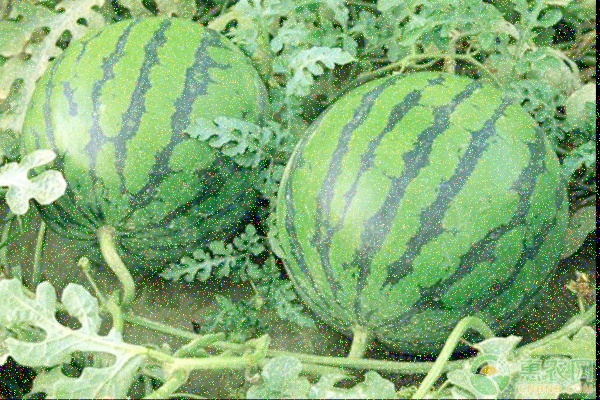watermelon: (284, 69, 570, 338), (19, 15, 267, 268)
